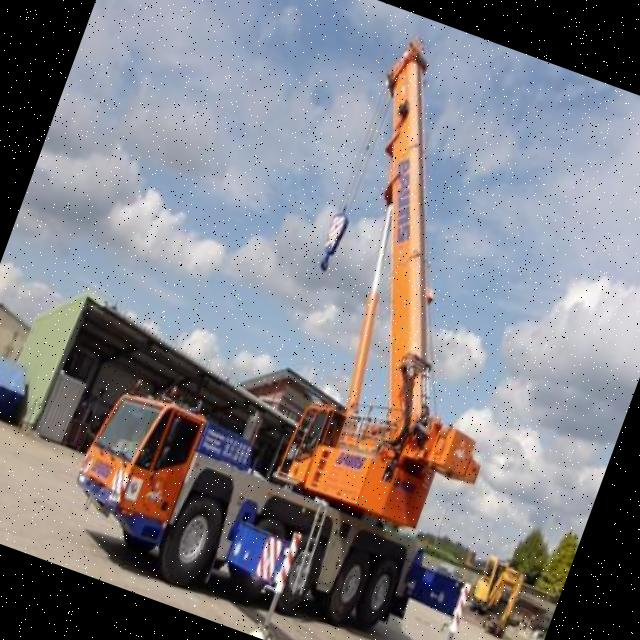Mobile Crane: (44, 0, 640, 640)
